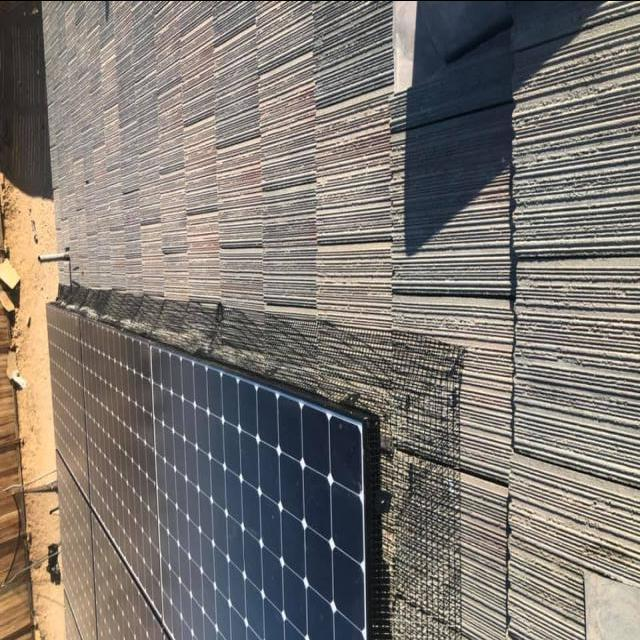Photovoltaic-Panel: (48, 305, 371, 640)
